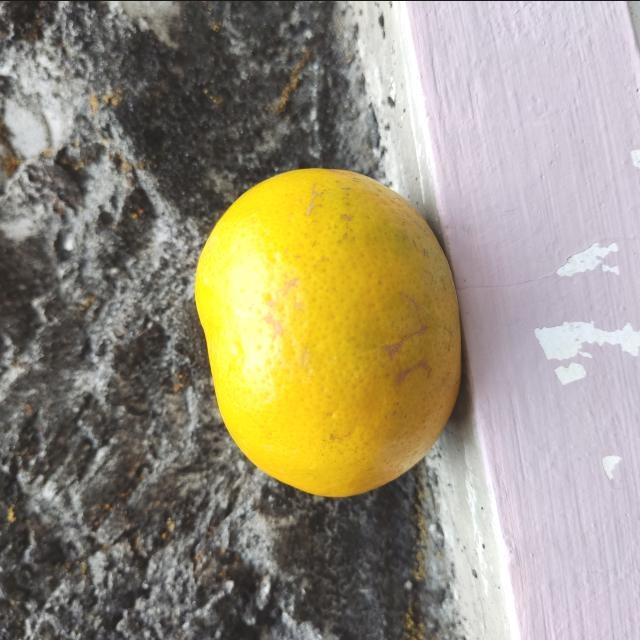agrume: (190, 166, 465, 498)
